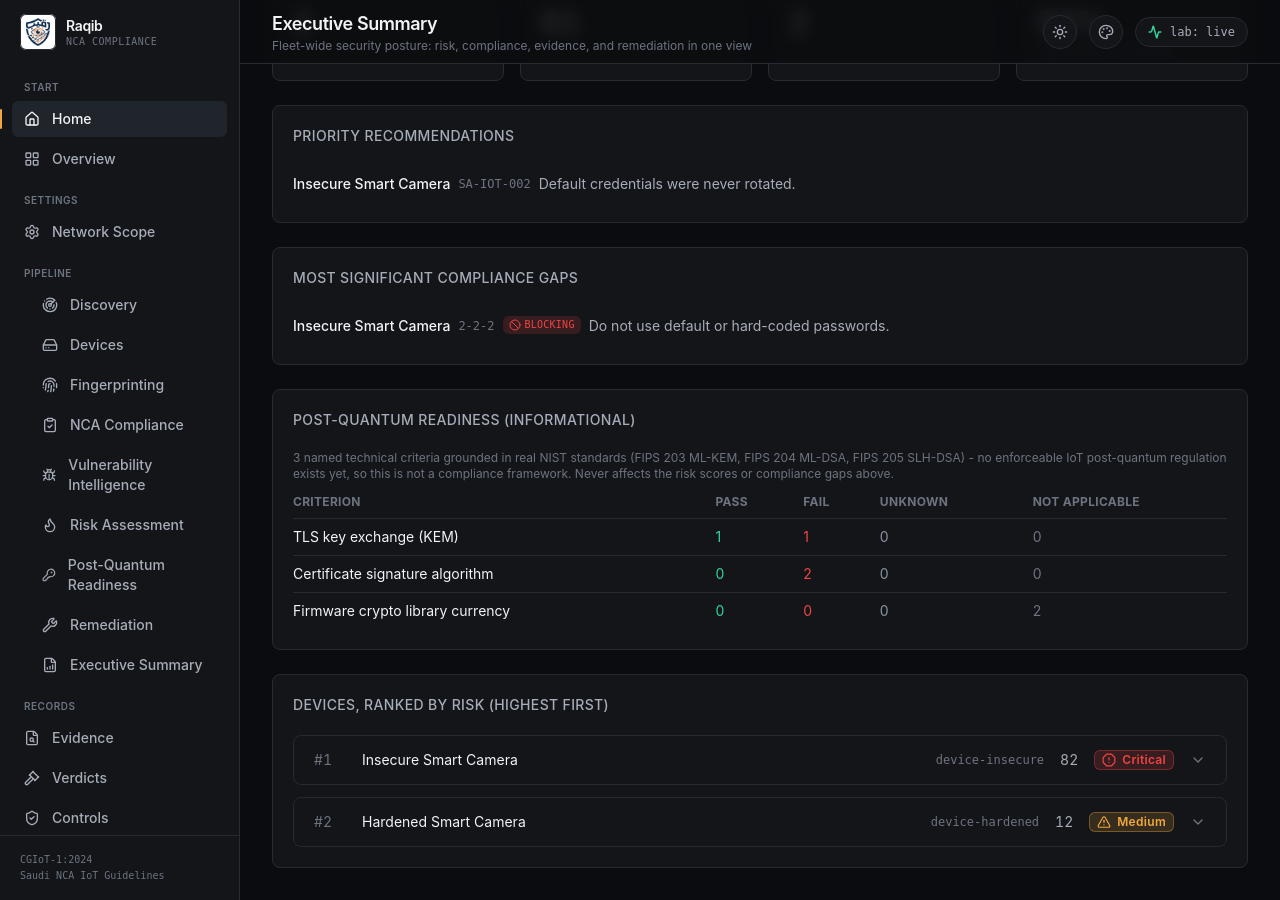
it: ExecutiveSummaryPage › expands a device row to show its compliance gaps, evidence, and remediation
(page scrolled)
expect the heading "Devices, ranked by risk (highest first)" is shown: met, box [293,695,609,715]
Click the button "#1 Insecure Smart Camera device-insecure 82 Critical": click(440, 760) [294,736,1226,784]
(page scrolled)
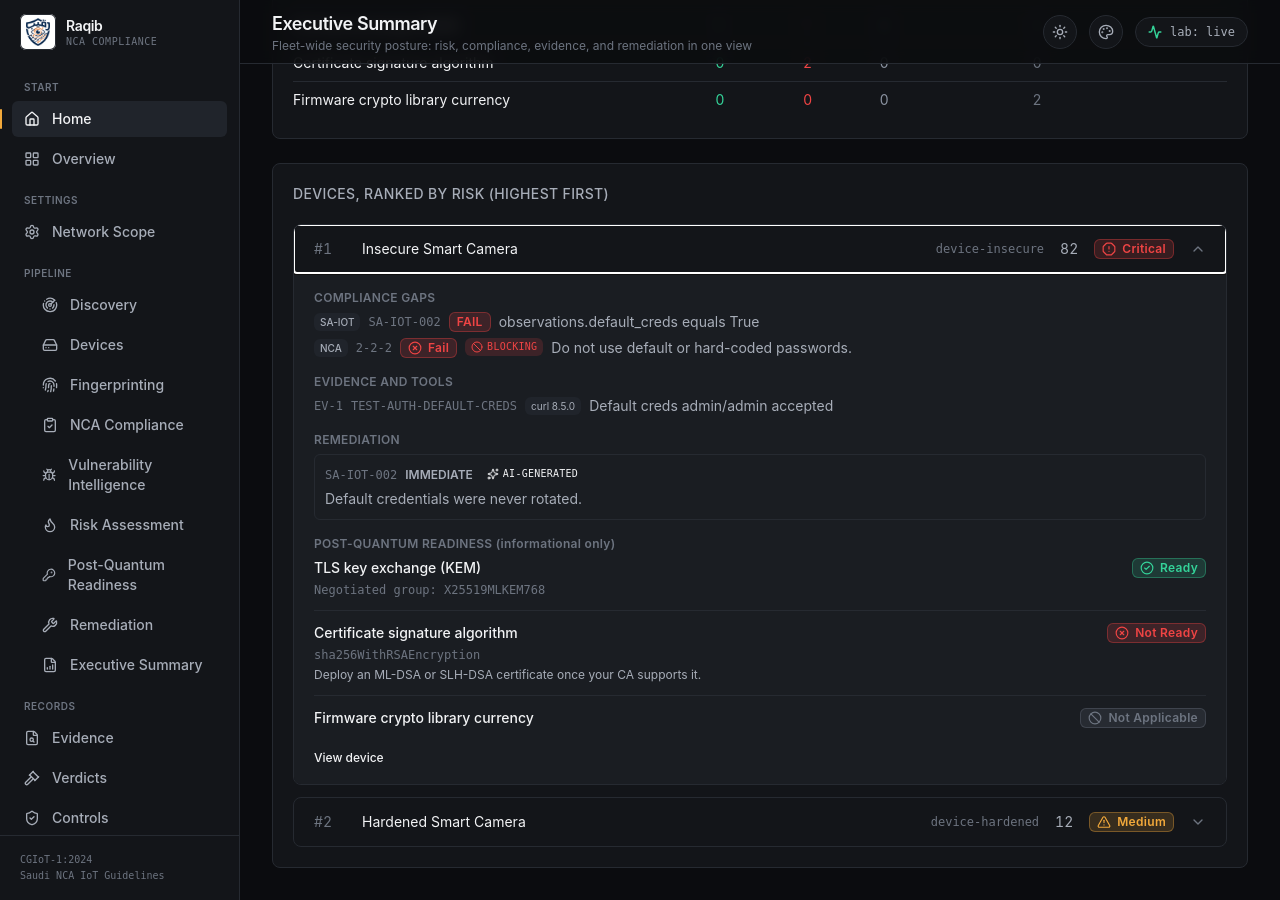
expect the text "observations.default_creds equals True" is shown: met, box [499,313,760,330]
expect the text "Default creds admin/admin accepted" is shown: met, box [589,397,833,414]
expect the text "ai-generated" is shown: met, box [481,465,584,484]
